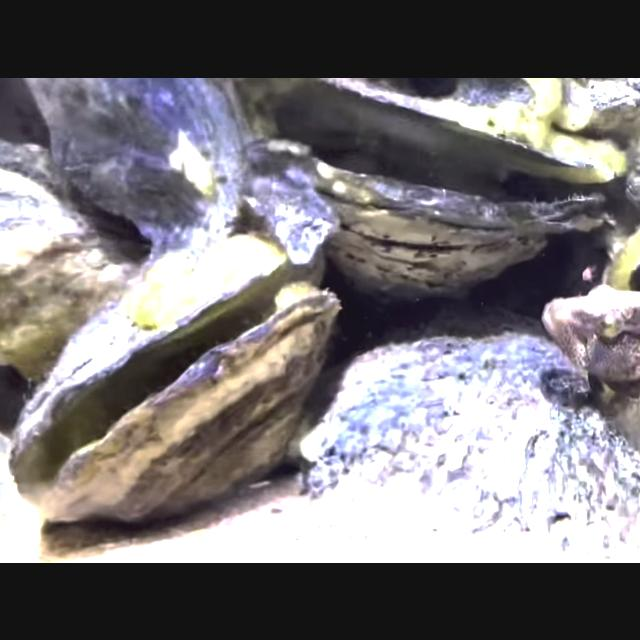Oyster-Closed: (24, 77, 246, 243), (0, 167, 140, 383)
Oyster-Open: (8, 232, 342, 526), (236, 77, 614, 295)
